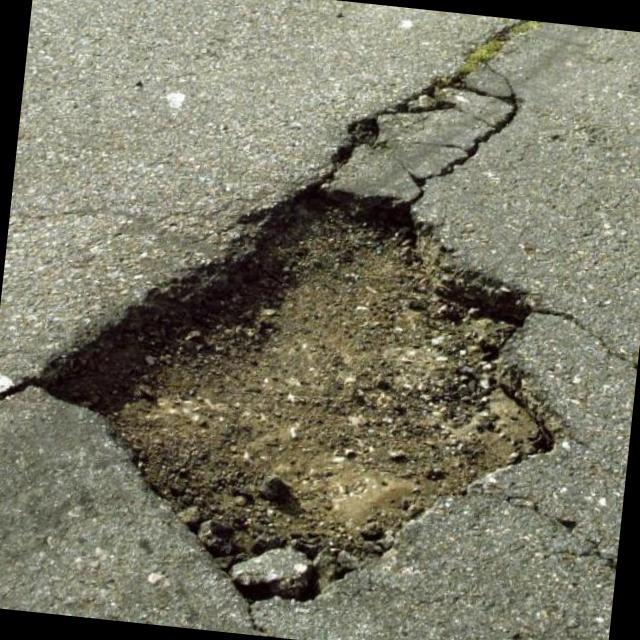Pothole: (23, 186, 556, 605)
